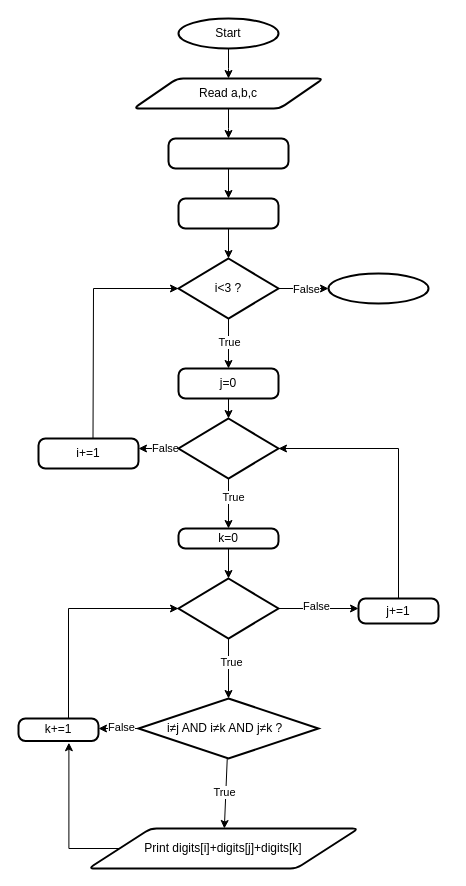
This 466x886 diagram has some shape labels left out. The shapes that lost their labels are listed below. From the top down, each one's centre as x and y in pixels, then its label:
At (x=228, y=153): "digits = [a,b,c]".
At (x=228, y=213): "i=0".
At (x=378, y=288): "Stop".
At (x=228, y=448): "j<3 ?".
At (x=228, y=608): "k<3?".
